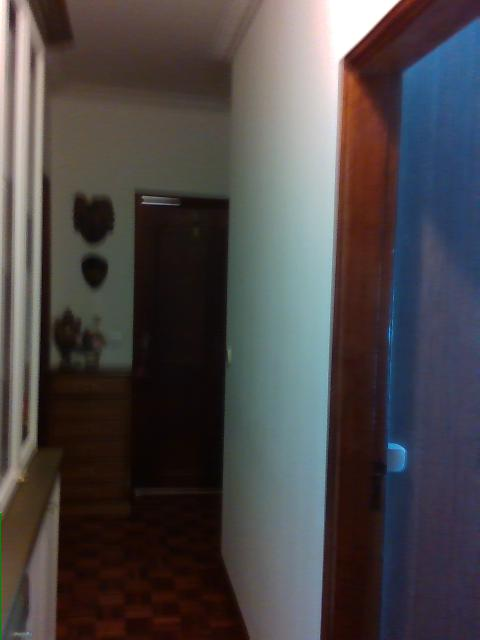door: (322, 2, 480, 640), (131, 188, 225, 492)
